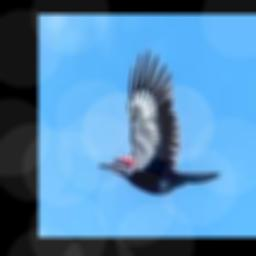Woodpecker: (98, 49, 222, 195)
